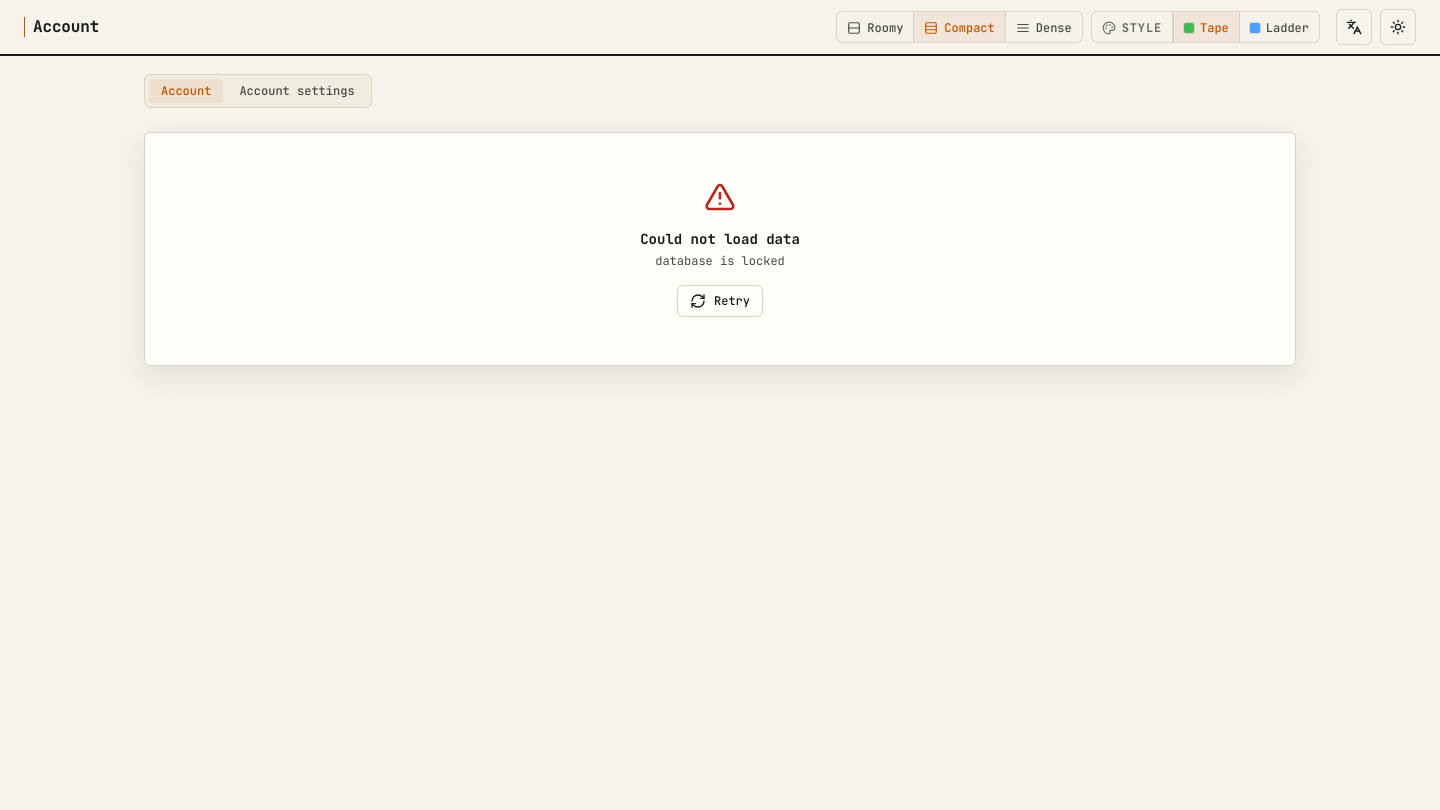
it: Account page › offers a retry when the first load fails
Expected: the text "Could not load data" is shown, 640,229 -> 800,249
Expected: the text "database is locked" is shown, 655,253 -> 785,269
Step 1. Click the button "Retry" → (720, 301), box 677,285 -> 763,317
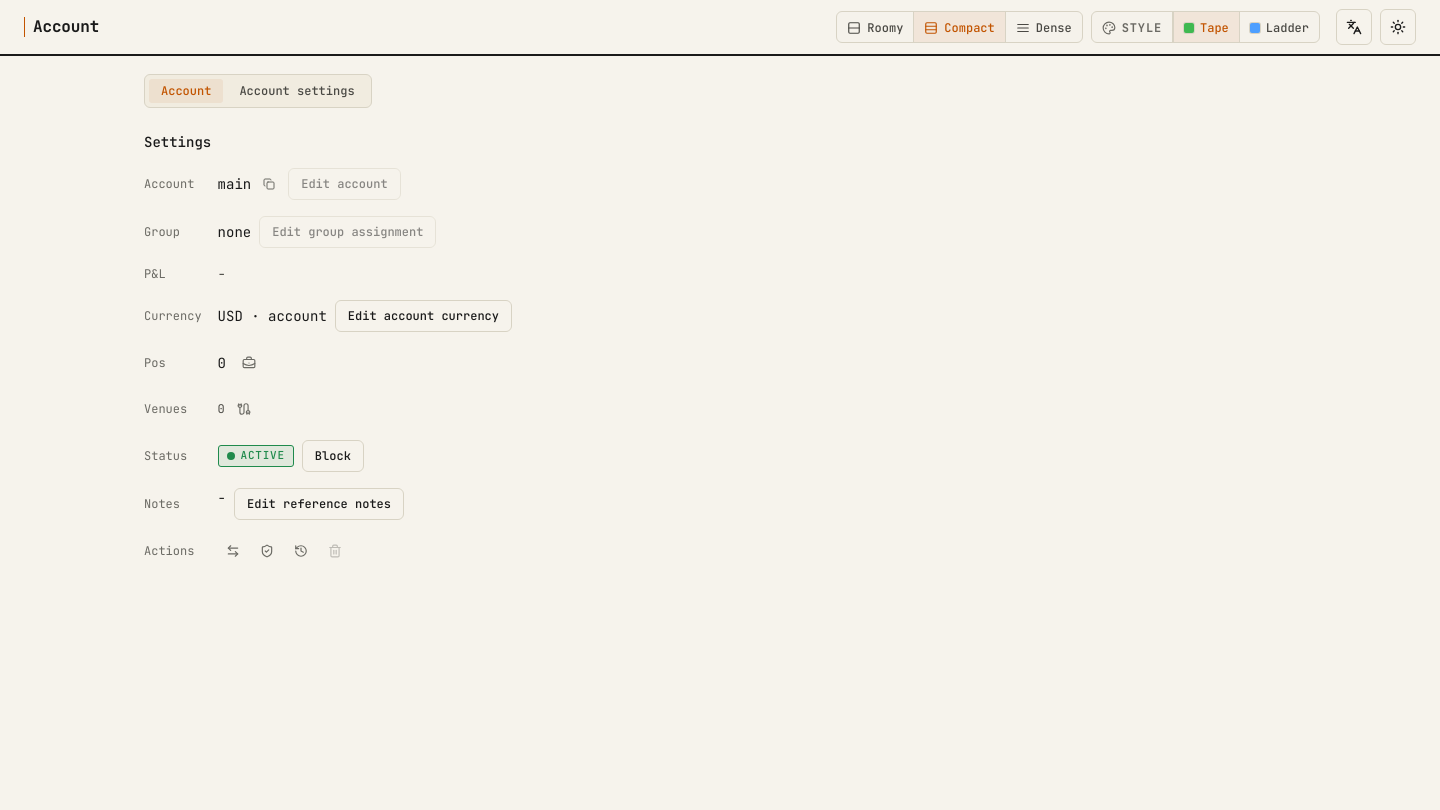
Expected: the text "USD · account" is shown, 218,306 -> 327,326
